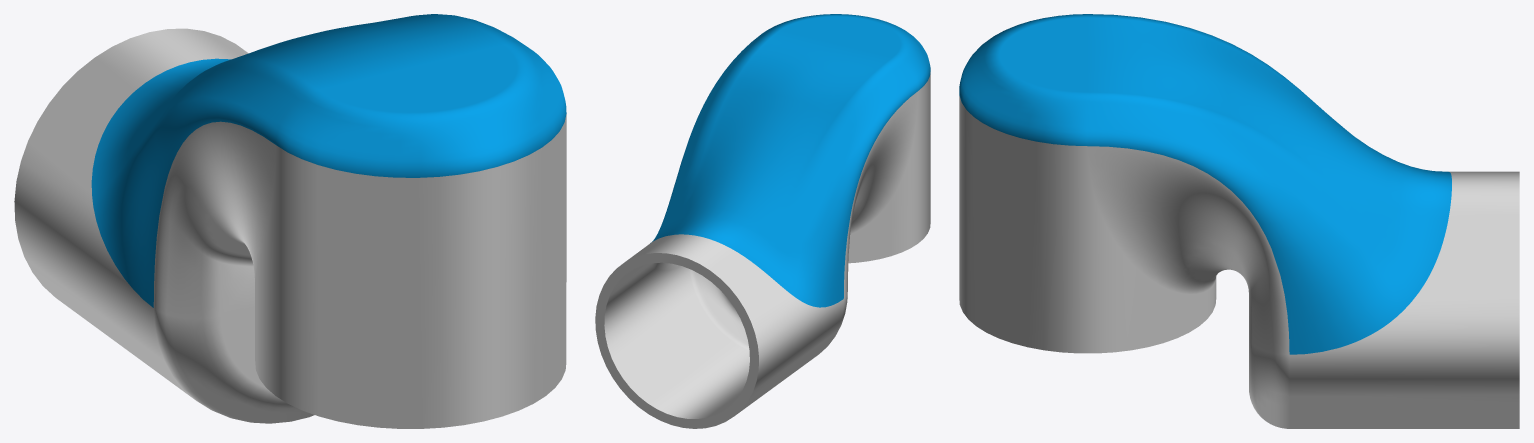
3 renders of one model, left to right at view 1: azimuth 30°, elevation 25°; view 2: azimuth 150°, elevation 25°; view 3: azimuth 270°, elevation 25°, orthographic. The views are drawn at different scales.
Parts seen in each view (by area): view 1: stitch_result_stitch_all; view 2: stitch_result_stitch_all; view 3: stitch_result_stitch_all.
Part boxes in pixels (<box>): stitch_result_stitch_all: <box>14,14,566,428</box>; stitch_result_stitch_all: <box>595,14,930,428</box>; stitch_result_stitch_all: <box>959,14,1519,428</box>.
Bounding box in the file's own units: 0.0951 × 0.207 × 0.1474.
